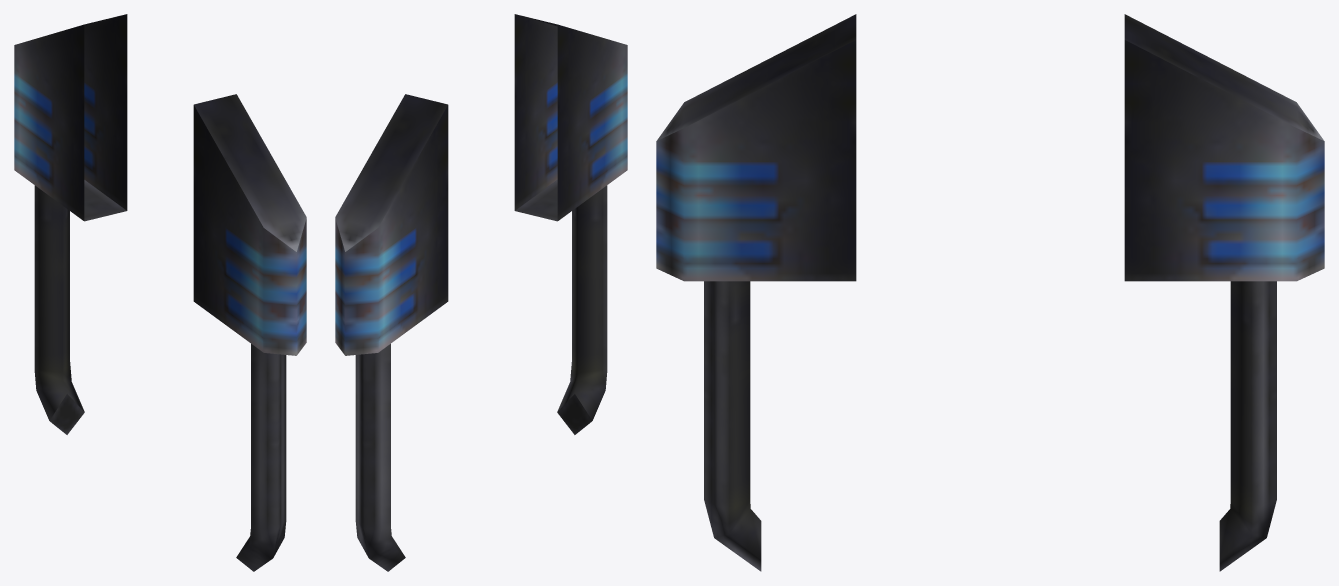
Rendered from Weapon_CryoGun_02_7e0a89f1__Weapon_CryoGun_557f0d77_c1f257.obj.
The picture shows the model from 3 angles, left to right: view 1: azimuth 30°, elevation 25°; view 2: azimuth 150°, elevation 25°; view 3: azimuth 270°, elevation 25°; orthographic projection. The views are drawn at different scales.
Size of the model in its own units: 0.0611 by 0.6036 by 0.6706.
1 material, 1 textured.
